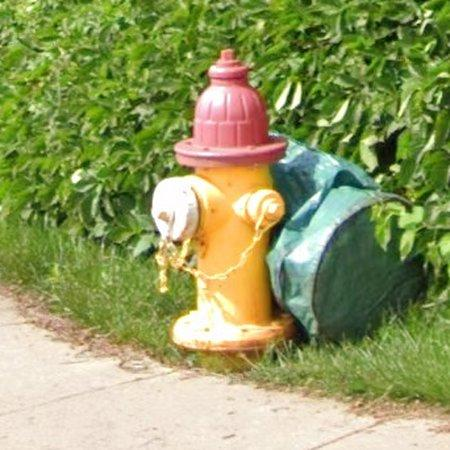a fire hydrant: (152, 49, 293, 351)
